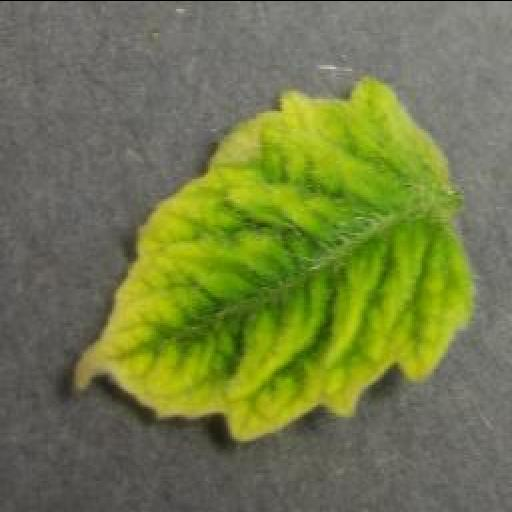disease_tomato: (66, 77, 472, 446)
